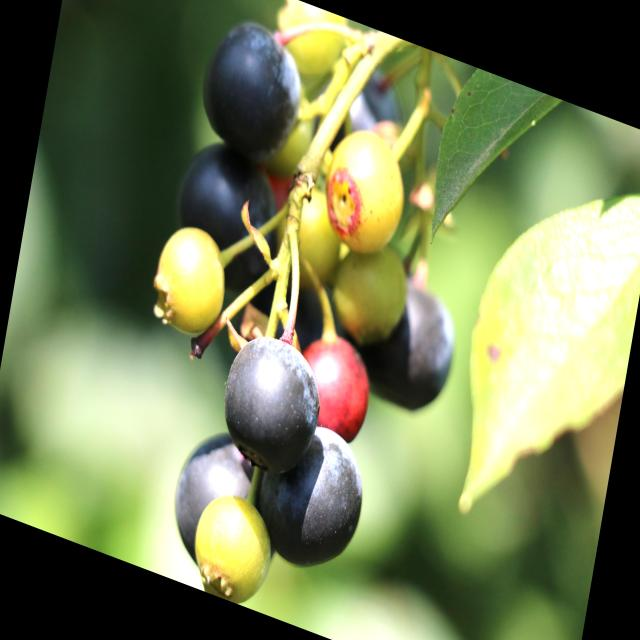blueberry: (256, 411, 369, 590), (166, 128, 287, 292), (212, 321, 329, 488), (196, 7, 310, 167), (356, 263, 464, 422), (162, 417, 255, 579)
blueberry-halfripe: (294, 325, 379, 459)
blueberry-unripe: (318, 117, 410, 260), (147, 209, 235, 349), (187, 488, 278, 613)
